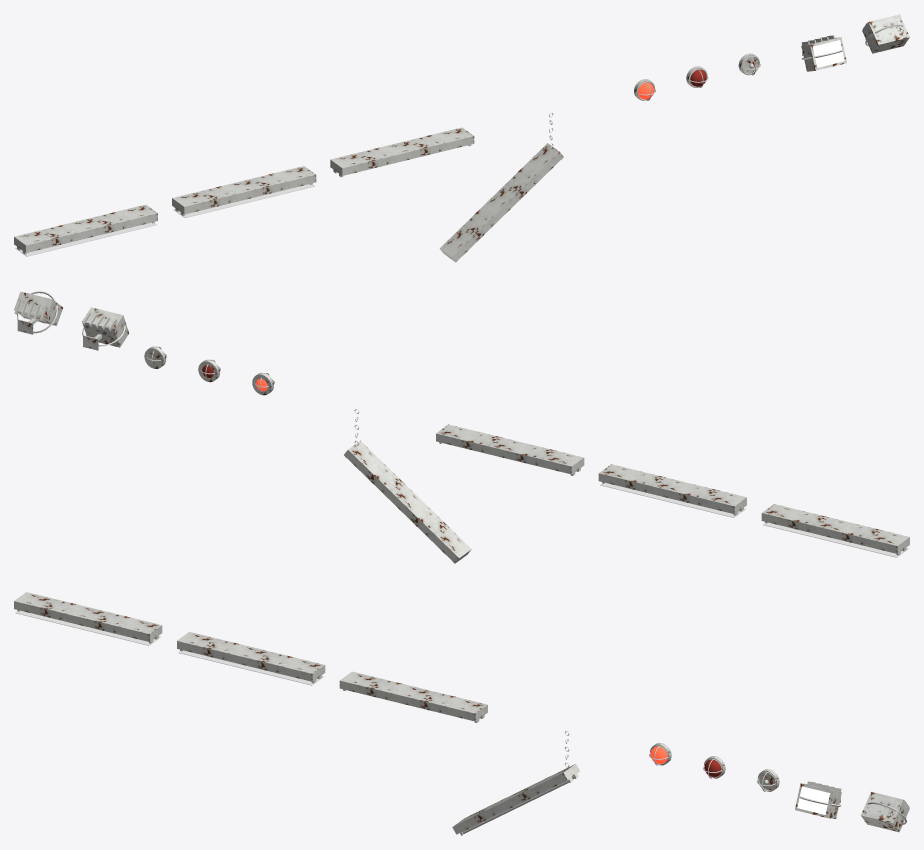
Rendered from lampade.glb.
3 views of the same model, one above another, from view 1: azimuth 30°, elevation 25°; view 2: azimuth 150°, elevation 25°; view 3: azimuth 330°, elevation 25° (orthographic). The views are drawn at different scales.
Parts seen in each view (by area): view 1: det_neon_penzolante, det_neon_soffitto_spento, det_neon_soffitto, det_neon_senza_diffusore, det_faro_spento, det_faro; view 2: det_neon_penzolante, det_neon_soffitto, det_neon_soffitto_spento, det_neon_senza_diffusore, det_faro, det_faro_spento; view 3: det_neon_soffitto, det_neon_soffitto_spento, det_neon_senza_diffusore, det_neon_penzolante, det_faro_spento, det_faro.
Part boxes in pixels (box(x1,y1,x2,y2)): det_neon_penzolante: box(439, 112, 563, 262); det_neon_soffitto_spento: box(172, 166, 316, 217); det_neon_soffitto: box(14, 204, 157, 256); det_neon_senza_diffusore: box(330, 127, 474, 177); det_faro_spento: box(862, 14, 909, 53); det_faro: box(801, 35, 846, 71); det_neon_penzolante: box(344, 409, 471, 563); det_neon_soffitto: box(761, 504, 909, 557); det_neon_soffitto_spento: box(598, 464, 746, 517); det_neon_senza_diffusore: box(436, 424, 584, 475); det_faro: box(82, 307, 128, 350); det_faro_spento: box(14, 291, 62, 334); det_neon_soffitto: box(14, 592, 162, 645); det_neon_soffitto_spento: box(177, 632, 325, 685); det_neon_senza_diffusore: box(339, 671, 487, 722); det_neon_penzolante: box(452, 731, 579, 835); det_faro_spento: box(861, 792, 909, 832); det_faro: box(795, 781, 841, 818).
Size of the model in its own units: 8.32 by 1.34 by 0.4748.
Materials: 11 (4 with a texture image).
